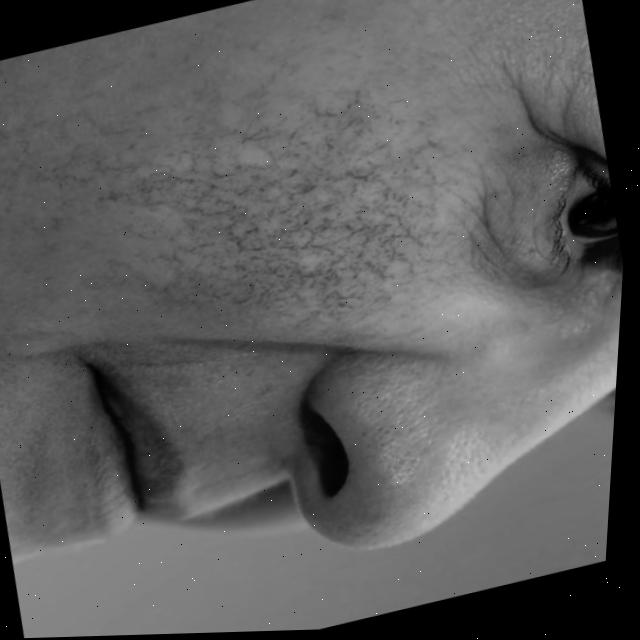Rosacea: (166, 93, 467, 345)
